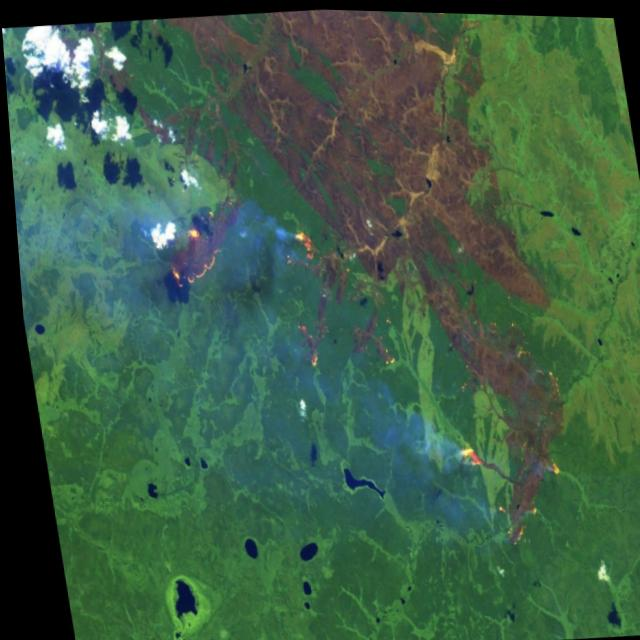fire: (147, 191, 226, 298), (284, 310, 322, 371), (283, 211, 319, 266), (443, 426, 484, 473), (530, 444, 558, 483)
